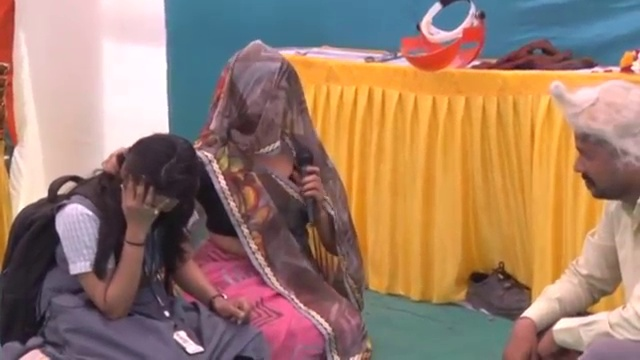helmet_off: (214, 44, 321, 161), (550, 77, 639, 209), (116, 136, 196, 219)
person: (176, 29, 372, 356), (0, 137, 276, 360), (507, 77, 640, 356)
